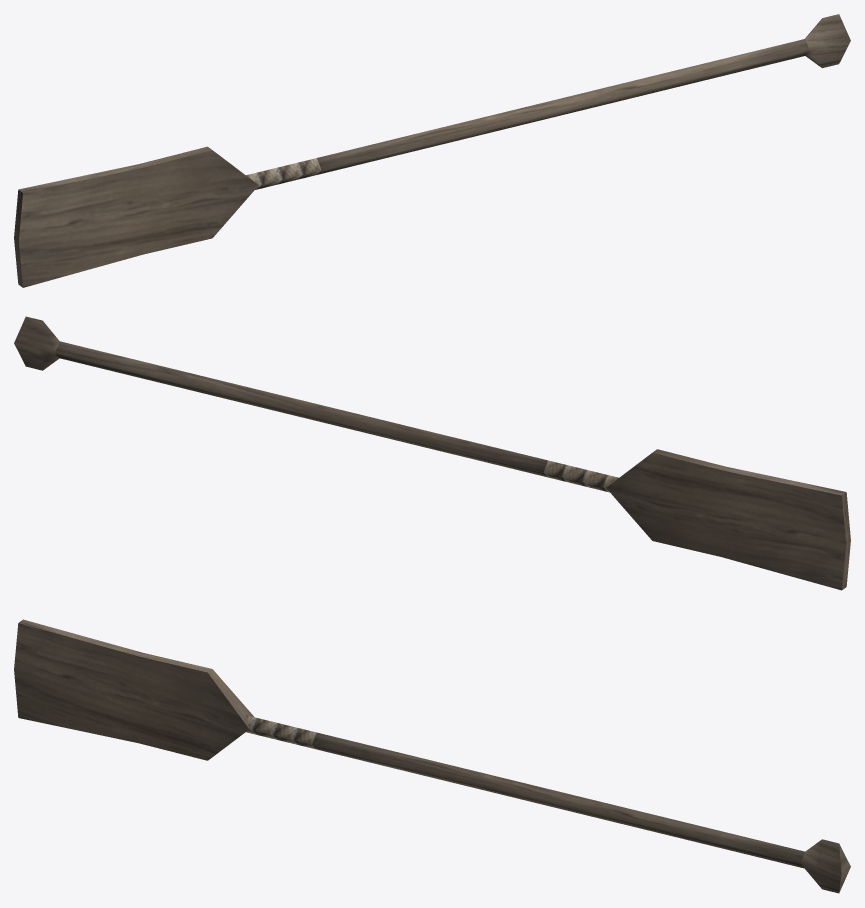
The model's file is Oar_A.fbx.
3 views of the same model, one above another, from view 1: azimuth 30°, elevation 25°; view 2: azimuth 150°, elevation 25°; view 3: azimuth 330°, elevation 25° (orthographic).
Visible parts, largest first — view 1: Oar_A; view 2: Oar_A; view 3: Oar_A.
Boxes of the visible parts, x1,y1,x2,y2 form: Oar_A: (14, 14, 850, 287); Oar_A: (14, 316, 850, 590); Oar_A: (14, 619, 850, 893).
Size of the model in its own units: 3.95 by 0.4317 by 0.0797.
